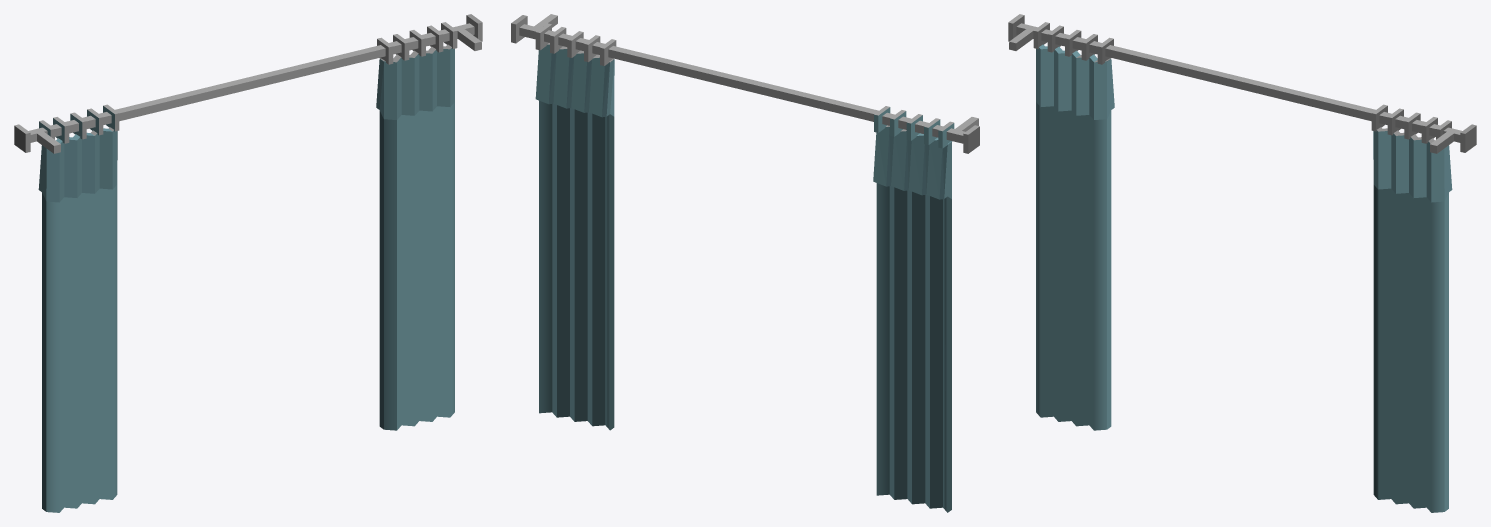
Rendered from Prop_Curtains_Blue.fbx.
3 renders of one model, left to right at view 1: azimuth 30°, elevation 25°; view 2: azimuth 150°, elevation 25°; view 3: azimuth 330°, elevation 25°, orthographic.
Visible parts, largest first — view 1: Curtains; view 2: Curtains; view 3: Curtains.
Boxes of the visible parts, <box> form: Curtains: <box>14,14,482,512</box>; Curtains: <box>511,14,979,512</box>; Curtains: <box>1008,14,1476,512</box>.
Size of the model in its own units: 128 by 12.43 by 103.
Materials: 1 (1 with a texture image).
